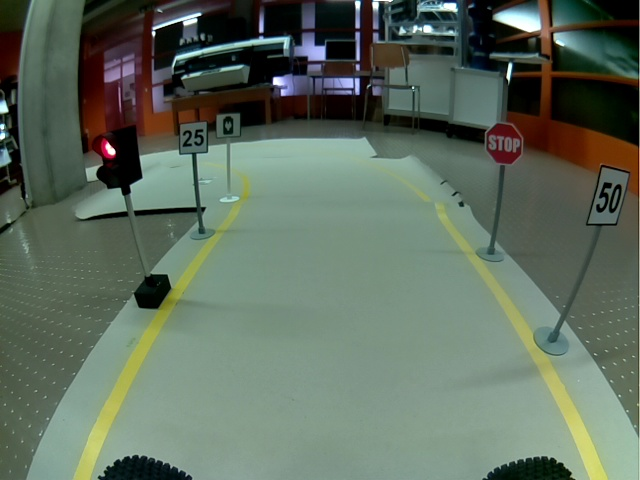battery: (215, 112, 242, 138)
speed25: (179, 121, 209, 154)
speed50: (587, 164, 631, 226)
stop: (484, 121, 524, 165)
trafficLightRed: (91, 125, 143, 189)
